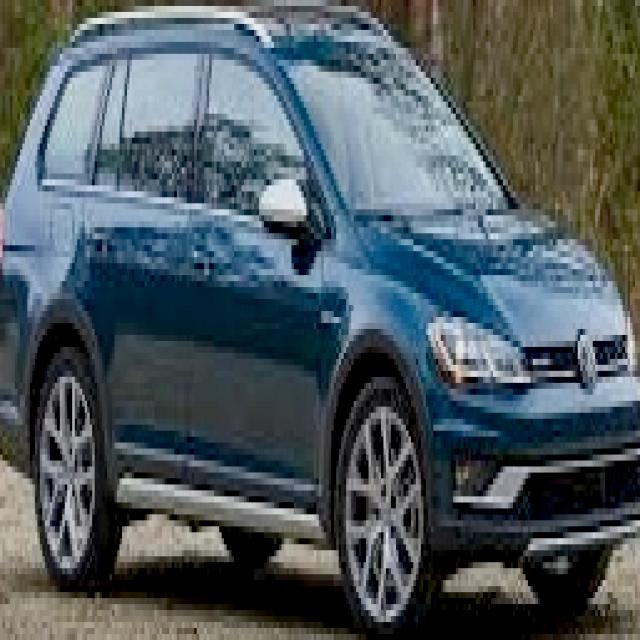blue: (2, 12, 638, 640)
